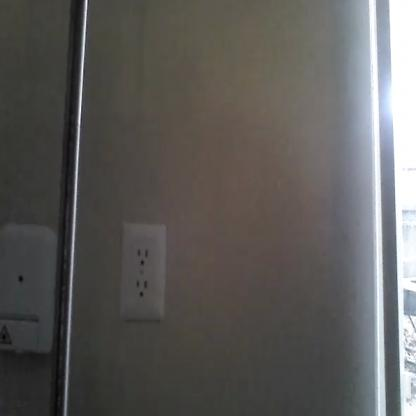OUTLET: (122, 223, 163, 319)
